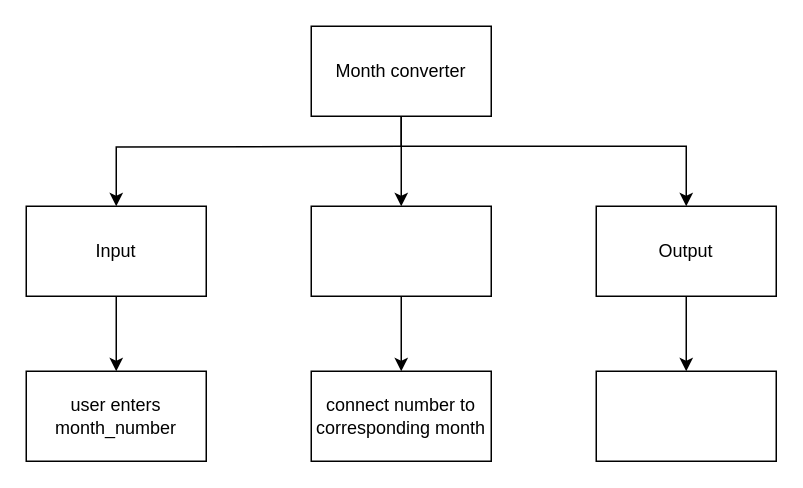
Image size: 803x488. Some labels were removed from this diagram. Here are the shapes that lost their labels. From the top down, the box of each, then its label:
(310, 205, 491, 296): Process
(595, 370, 776, 461): show month
